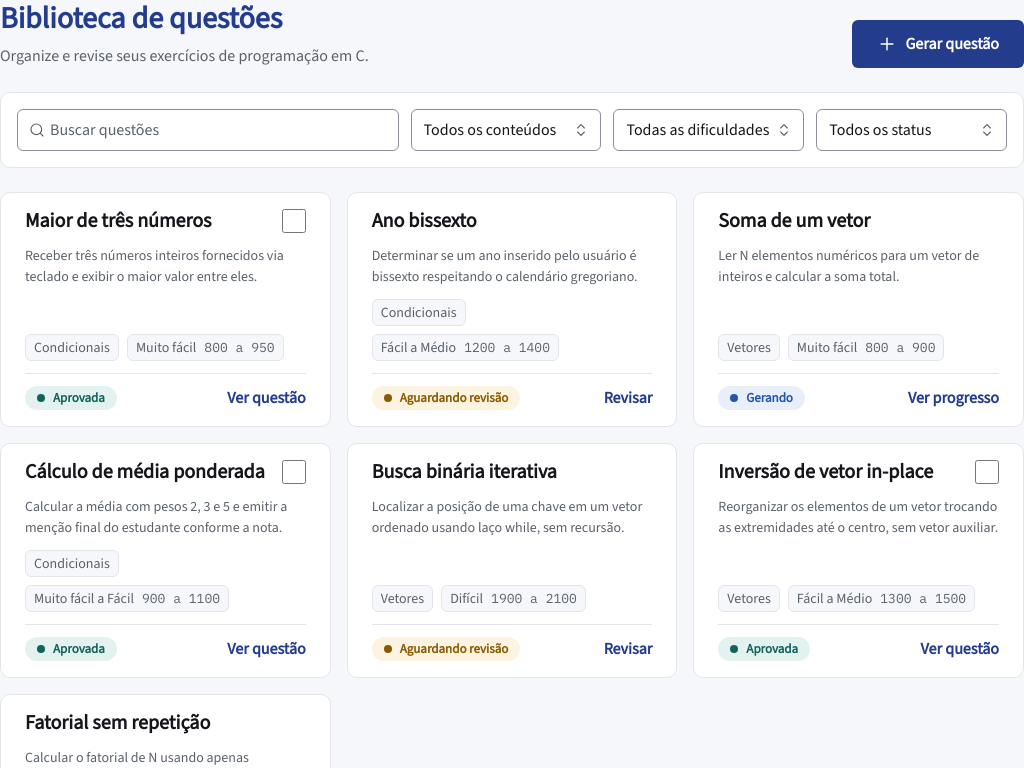
Test: LibraryView › só permite selecionar aprovadas e exporta o XML do lote
Click the checkbox named "Selecionar Maior de três números" next to "Maior de três números" at (294, 221), box top-left (282, 209), bottom-right (306, 233)
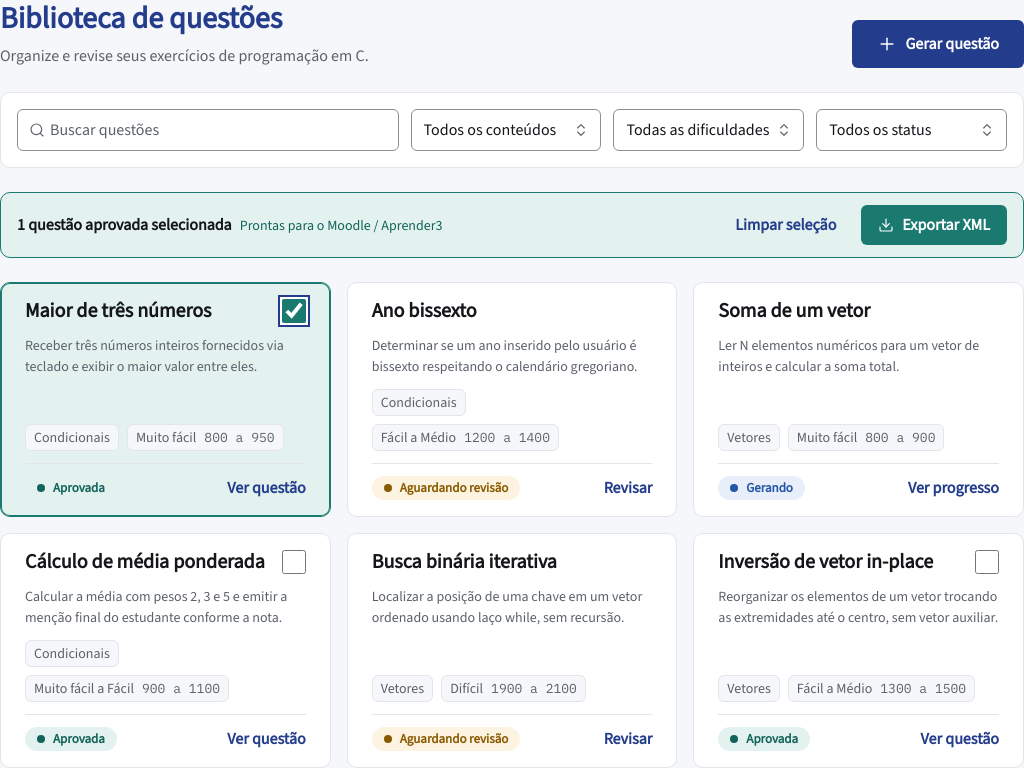
Click the checkbox named "Selecionar Cálculo de média ponderada" next to "Cálculo de média ponderada" at (294, 562), box top-left (282, 550), bottom-right (306, 574)
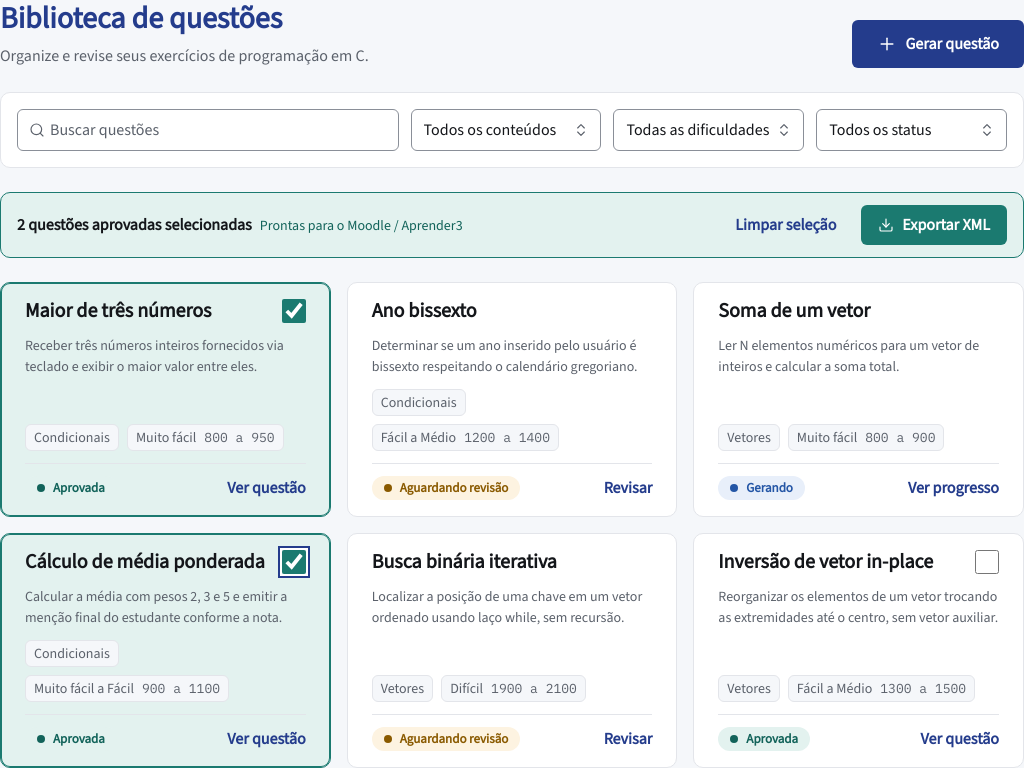
Check: the element named "Questões selecionadas" shows "2 questões aprovadas selecionadas", box top-left (17, 214), bottom-right (252, 235)
Click the button "Exportar XML" at (934, 225), box top-left (861, 205), bottom-right (1007, 245)
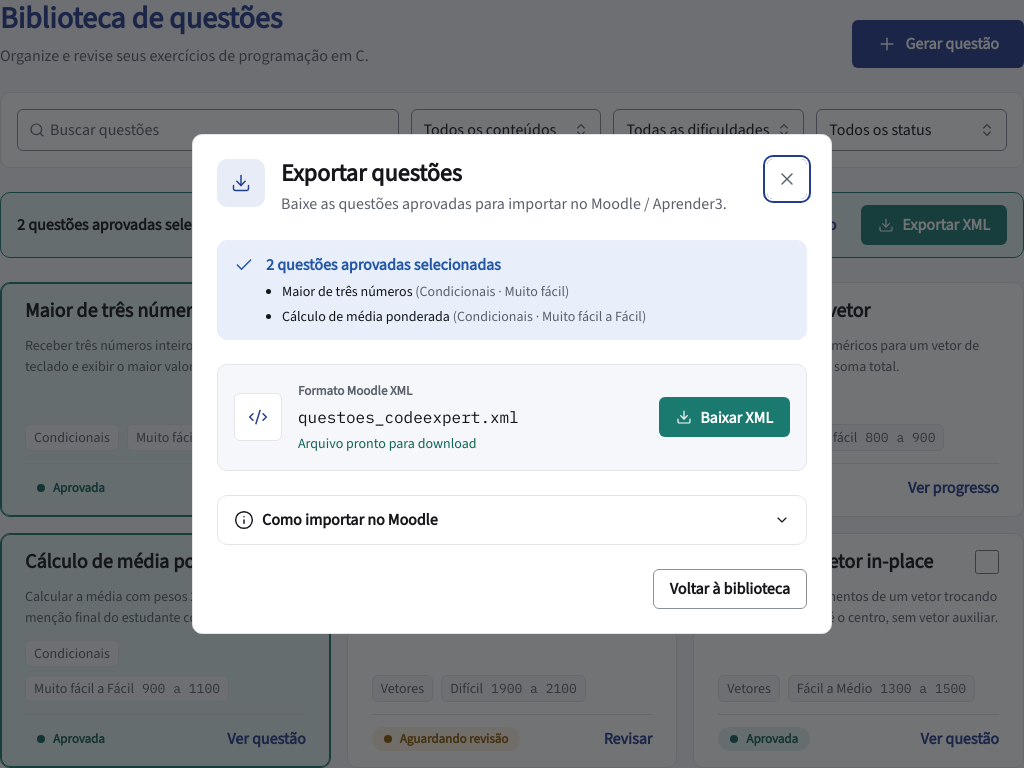
Check: the list item "Maior de três números" is shown, box top-left (282, 282), bottom-right (412, 301)
Check: the text "questoes_codeexpert.xml" is shown, box top-left (298, 407), bottom-right (519, 427)
Click the button "Baixar XML" at (725, 417), box top-left (659, 397), bottom-right (790, 437)
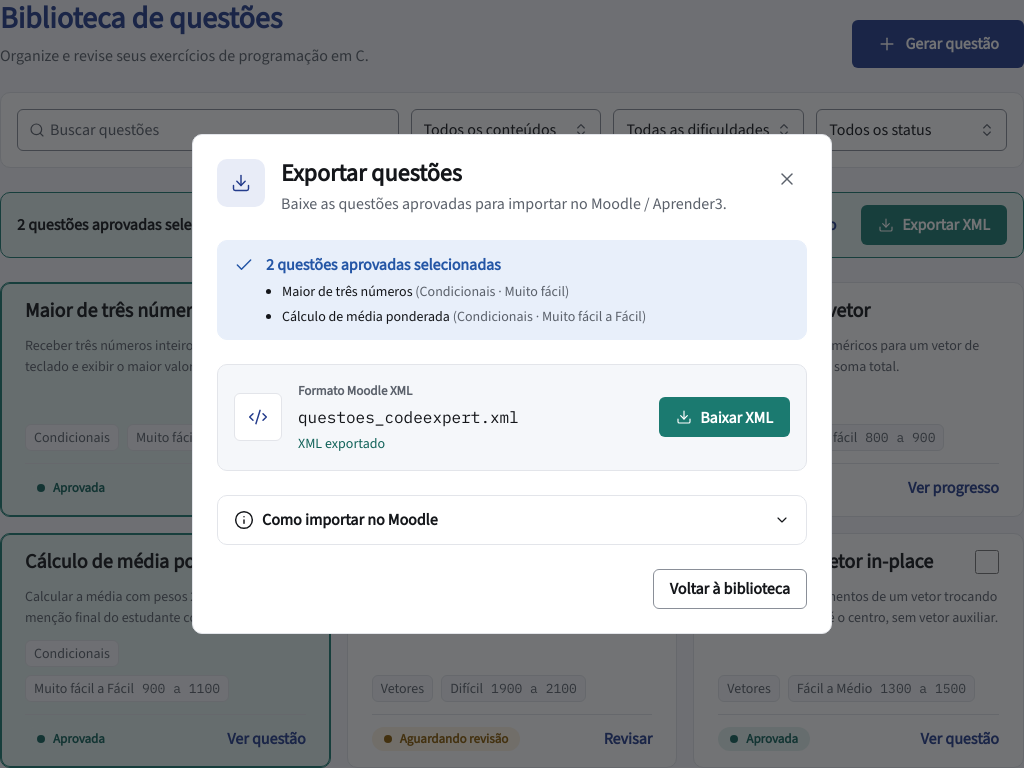
Check: the text "questoes_codeexpert.xml" is shown, box top-left (298, 407), bottom-right (519, 427)
Check: the text "XML exportado" is shown, box top-left (298, 434), bottom-right (385, 453)
Click the button "Voltar à biblioteca" at (730, 589), box top-left (653, 569), bottom-right (807, 609)
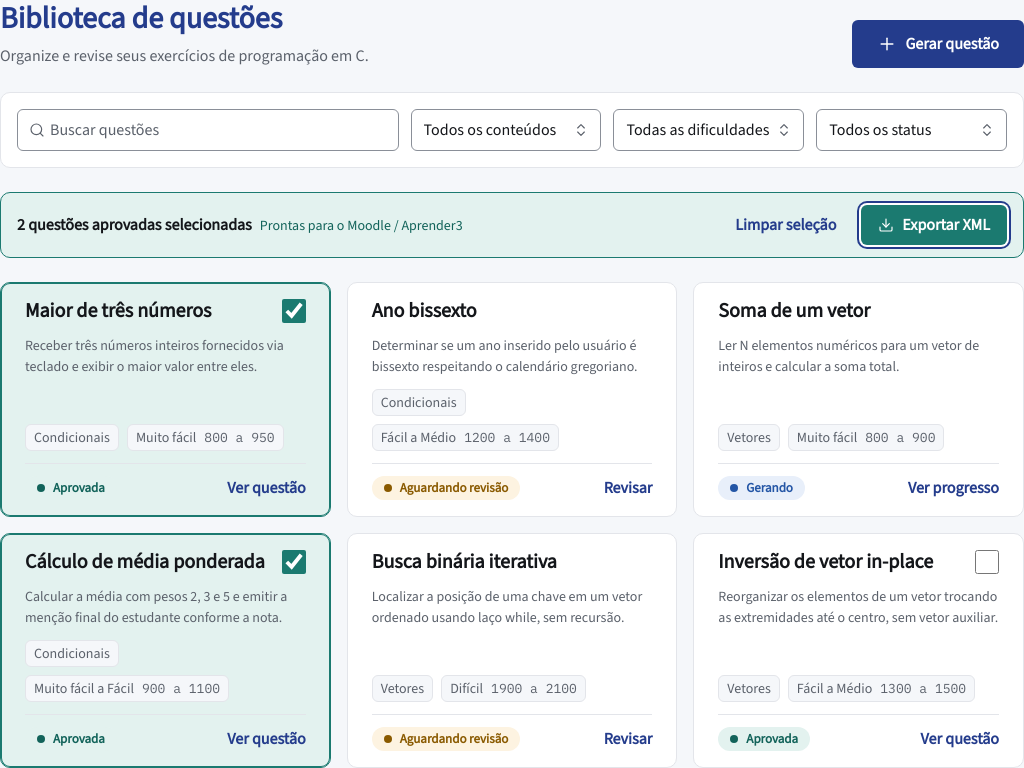
Check: the dialog is gone
